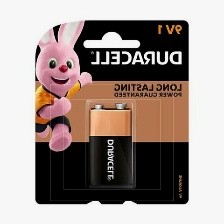battery: (84, 99, 134, 190)
